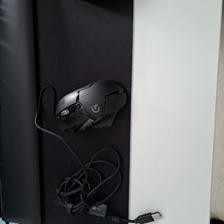mouse: (52, 77, 127, 135)
